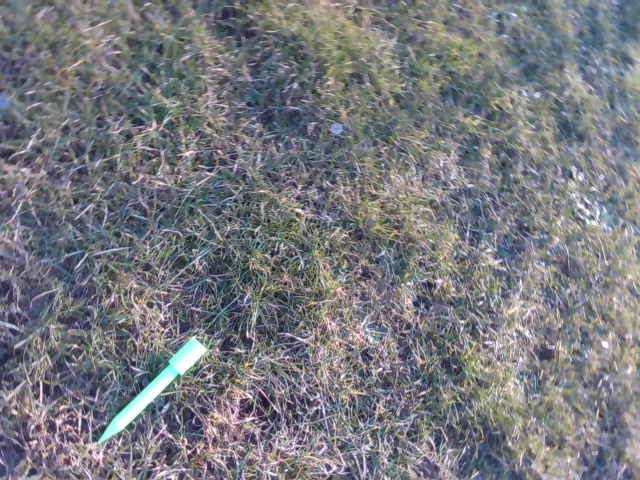Probe: (97, 331, 209, 449)
